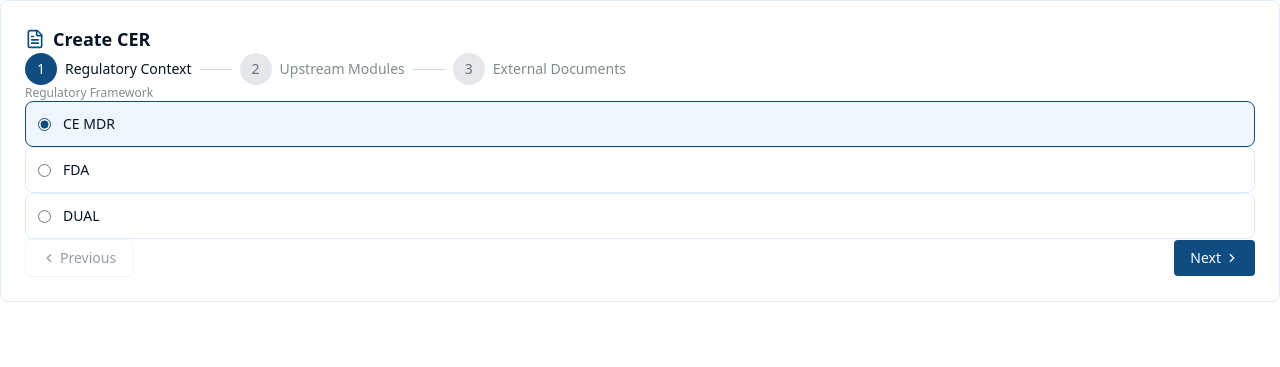
Test: CerCreationForm › navigates to step 2 on next click
Click the button with test id "next-btn".
click(1215, 258)  # box [1174,240,1255,276]
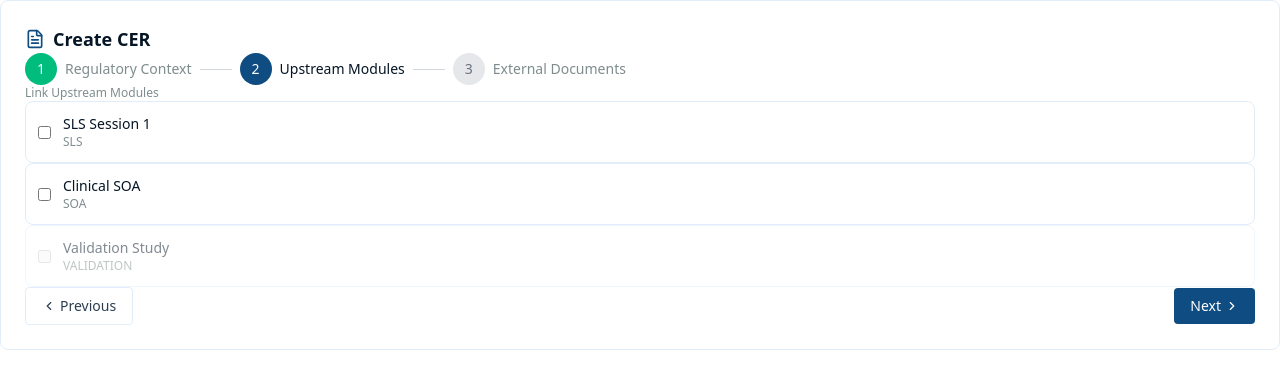
Now the element with test id "upstream-step" is shown, box [25,85,1255,287]
